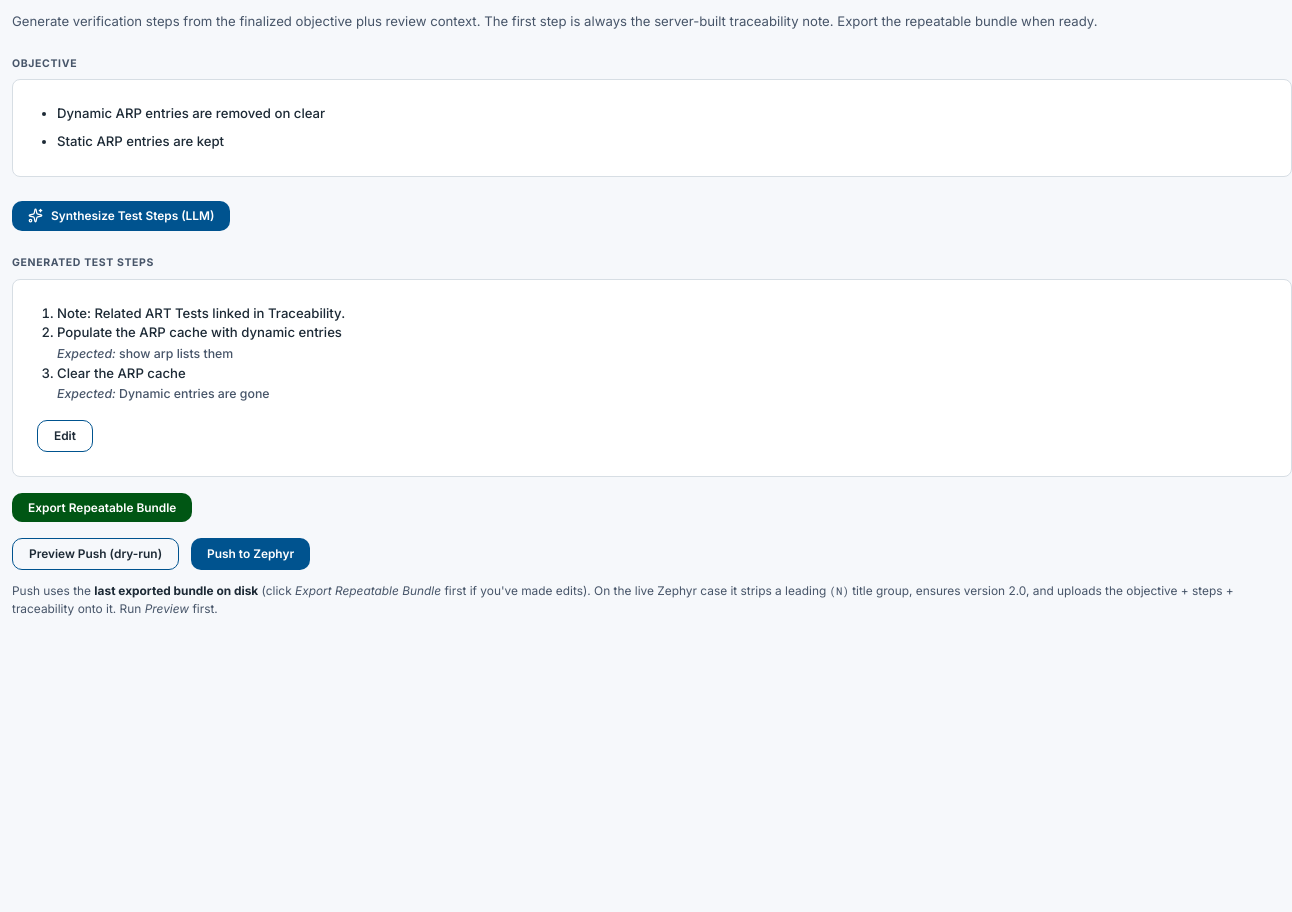
Test: OgTestSteps › editing › + Add step adds an empty pair of fields at the end
This screenshot has width=1292, height=912.
Click the button "Edit".
click(65, 436)  # box left=37, top=420, right=93, bottom=452
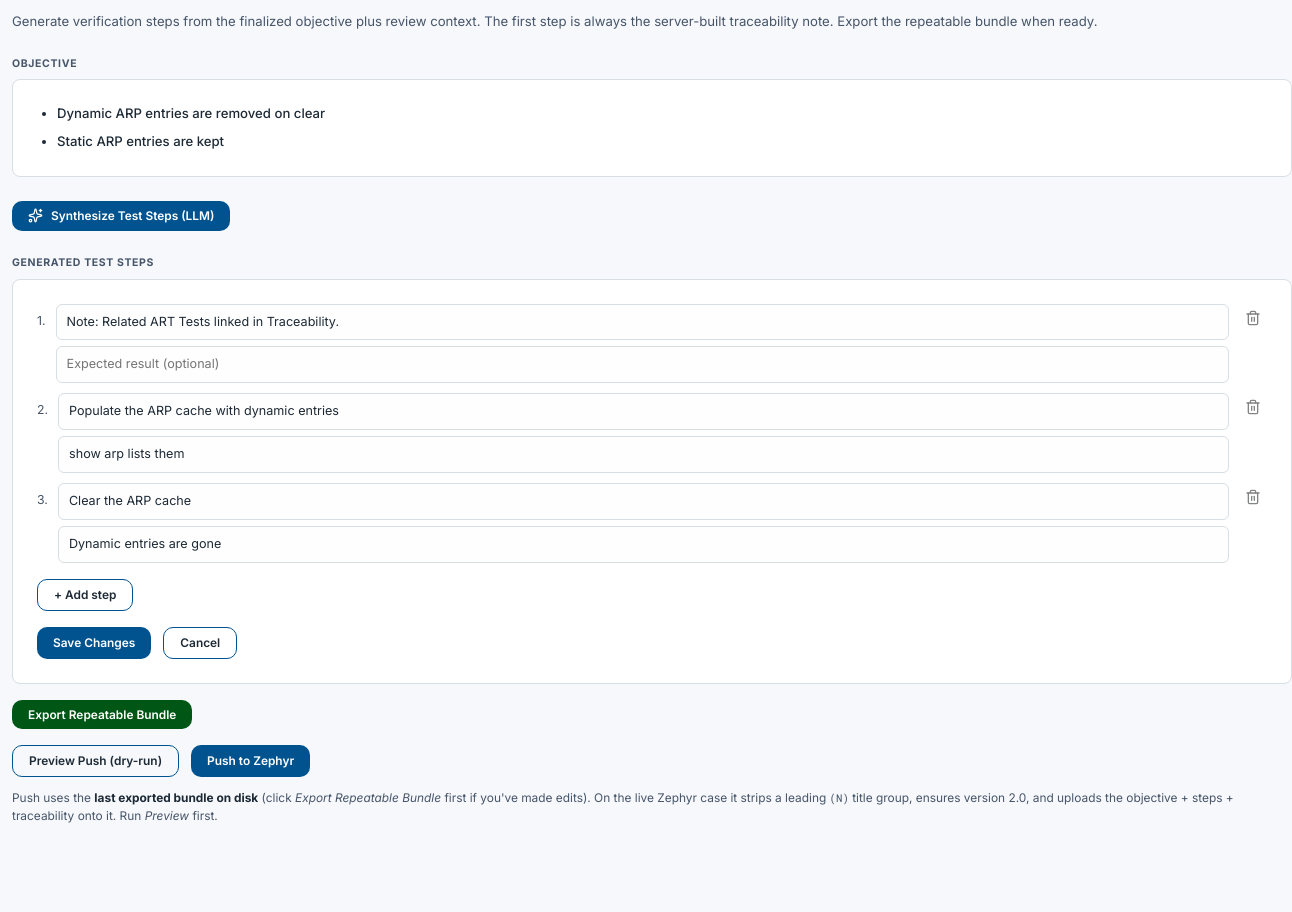
Click the button "+ Add step".
click(85, 595)  # box left=37, top=579, right=133, bottom=611
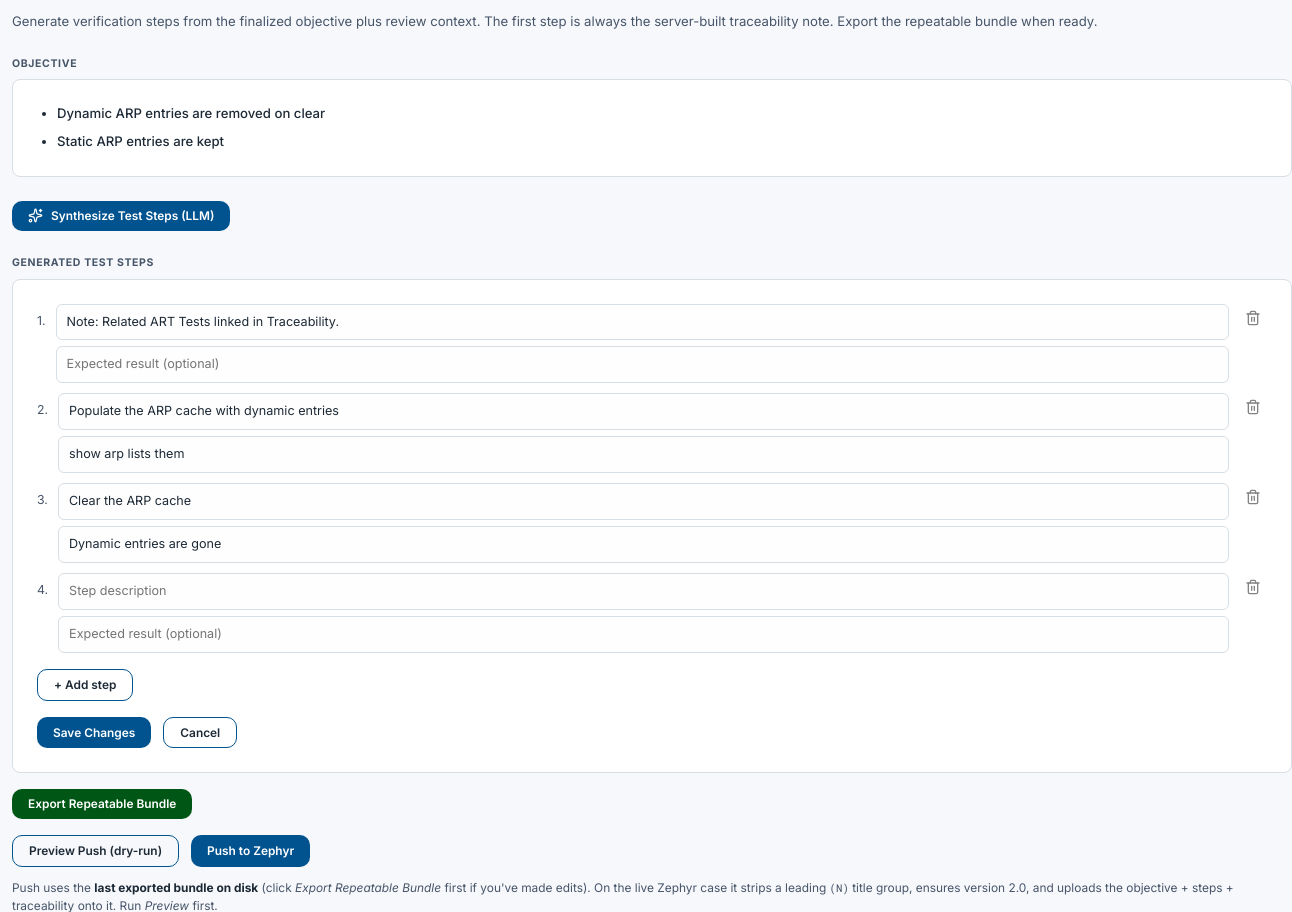
Check: the number of fields with placeholder "Step description" is 4, box left=56, top=304, right=1229, bottom=340; left=58, top=393, right=1229, bottom=430; left=58, top=483, right=1229, bottom=520; left=58, top=573, right=1229, bottom=610
Check: the field with placeholder "Step description" is empty, box left=58, top=573, right=1229, bottom=610
